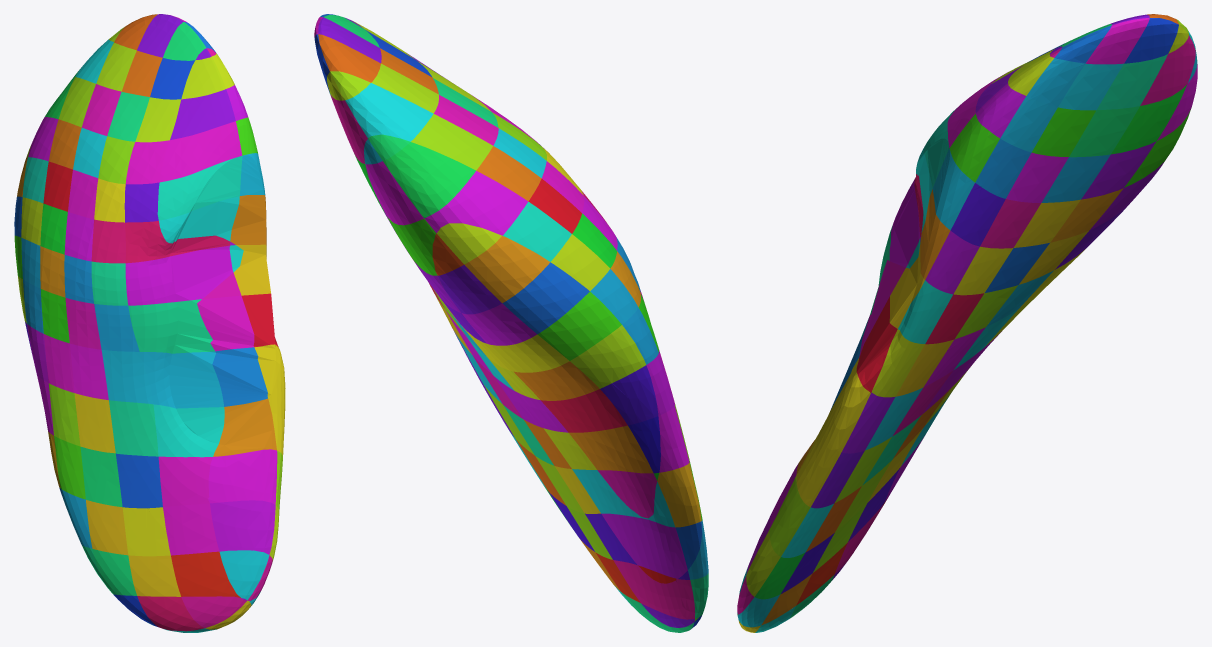
Rendered from kidney-male-right-vu.glb.
3 renders of one model, left to right at view 1: azimuth 30°, elevation 25°; view 2: azimuth 150°, elevation 25°; view 3: azimuth 270°, elevation 25°, orthographic. The views are drawn at different scales.
Parts seen in each view (by area): view 1: world; view 2: world; view 3: world.
Boxes of the visible parts, x1,y1,x2,y2 form: world: (14, 14, 285, 632); world: (314, 14, 708, 632); world: (737, 14, 1197, 632).
Bounding box in the file's own units: 0.0443 × 0.0959 × 0.059.
